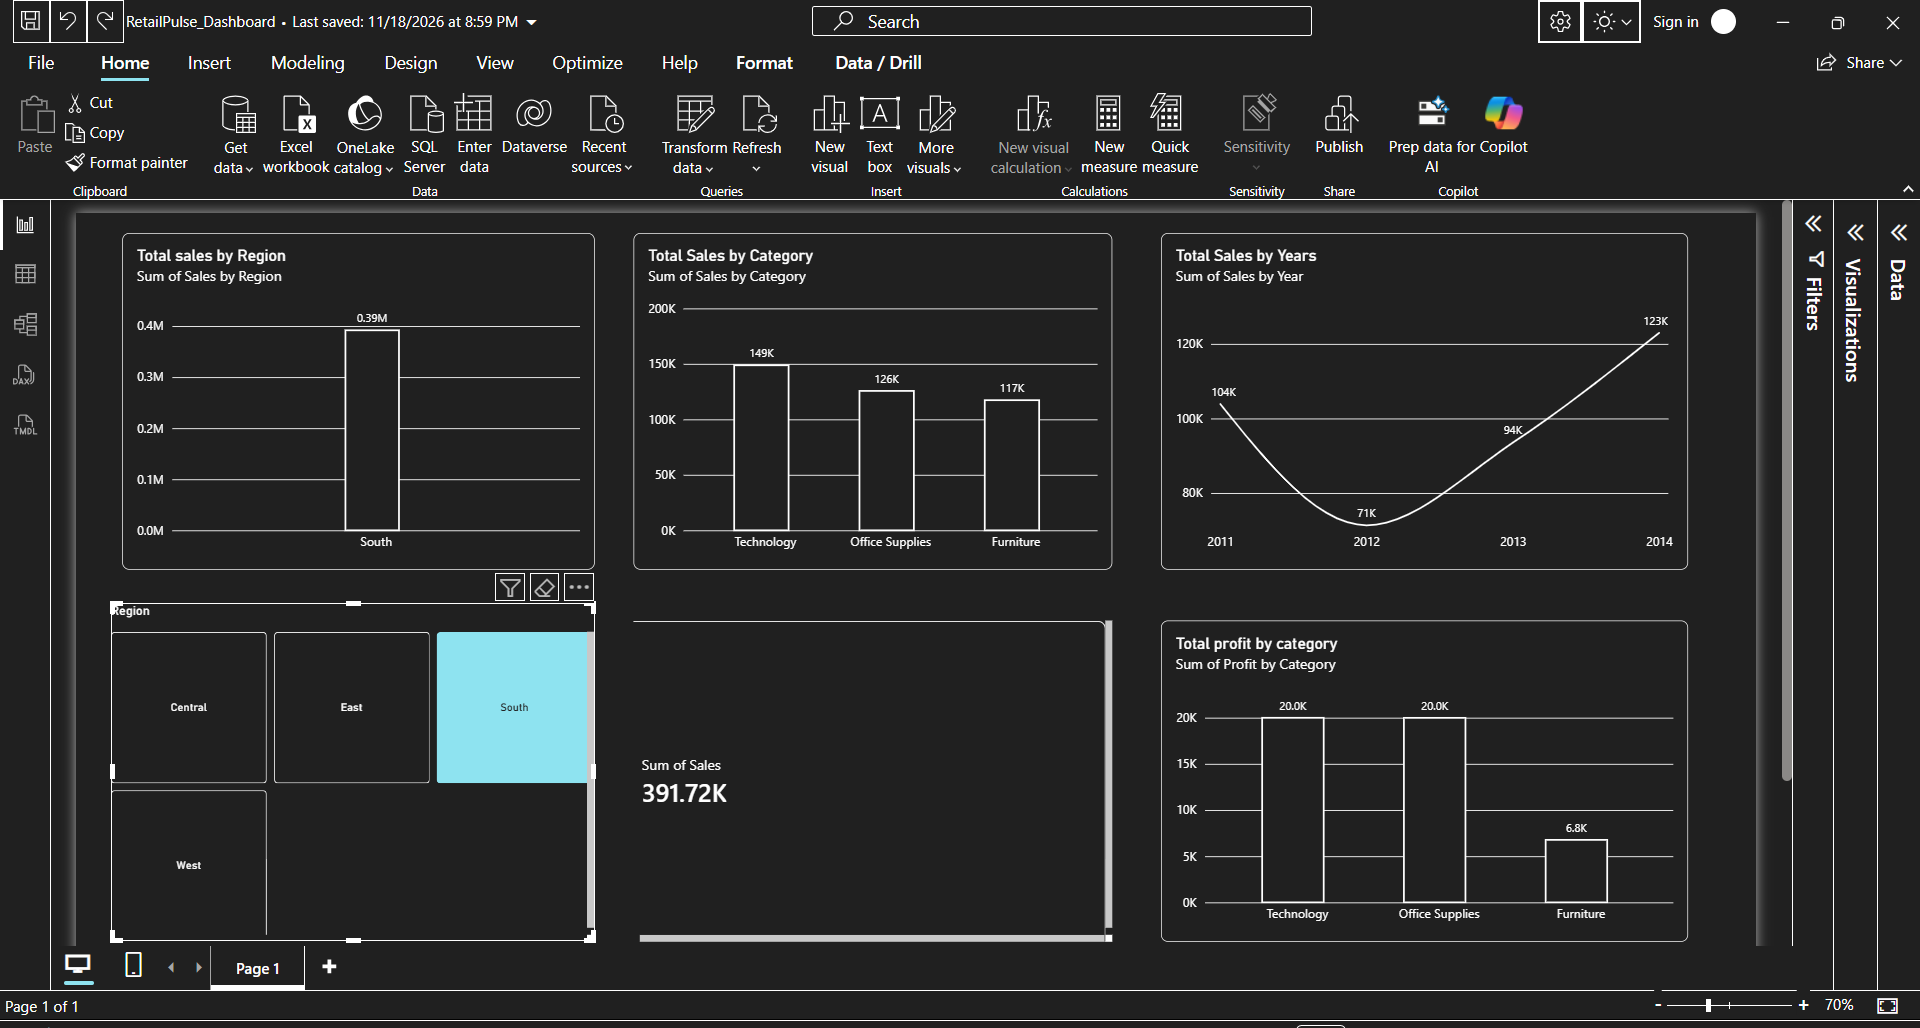

The dashboard page shown, as its layout file describes it:
{"tool":"powerbi","page":{"name":"Page 1","canvas":[1920,1080],"ordinal":0},"visuals":[{"type":"clusteredColumnChart","title":"Total sales by Region","fields":{"Category":["Superstore.Region"],"Y":["Sum(Superstore.Sales)"]},"box":[52.5,22.5,540,385],"z":0},{"type":"clusteredColumnChart","title":"Total Sales by Category","fields":{"Category":["Superstore.Category"],"Y":["Sum(Superstore.Sales)"]},"box":[637.5,22.5,547.5,385],"z":1},{"type":"lineChart","title":"Total Sales by Years","fields":{"Category":["Superstore.Order Date.Variation.Date Hierarchy.Year"],"Y":["Sum(Superstore.Sales)"]},"box":[1240,22.5,602.5,385],"z":2},{"type":"advancedSlicerVisual","fields":{"Values":["Superstore.Region"]},"box":[40,445,552.5,387.5],"z":3},{"type":"cardVisual","fields":{"Data":["Sum(Superstore.Sales)"]},"box":[637.5,465,547.5,367.5],"z":4},{"type":"clusteredColumnChart","title":"Total profit by category","fields":{"Category":["Superstore.Category"],"Y":["Sum(Superstore.Profit)"]},"box":[1239.6,465.1,602.6,367.4],"z":5}]}

Visuals, with their boxes on the page's 1920x1080 design canvas (x1, y1, x2, y2). These are canvas units, not pixel positions in the 1920x1028 screenshot, which may show the page scaled, cropped or inside an application window:
"Total sales by Region" clusteredColumnChart: (52,22,592,408)
"Total Sales by Category" clusteredColumnChart: (638,22,1185,408)
"Total Sales by Years" lineChart: (1240,22,1842,408)
advancedSlicerVisual - Superstore.Region: (40,445,592,832)
cardVisual - Sum(Superstore.Sales): (638,465,1185,832)
"Total profit by category" clusteredColumnChart: (1240,465,1842,832)
